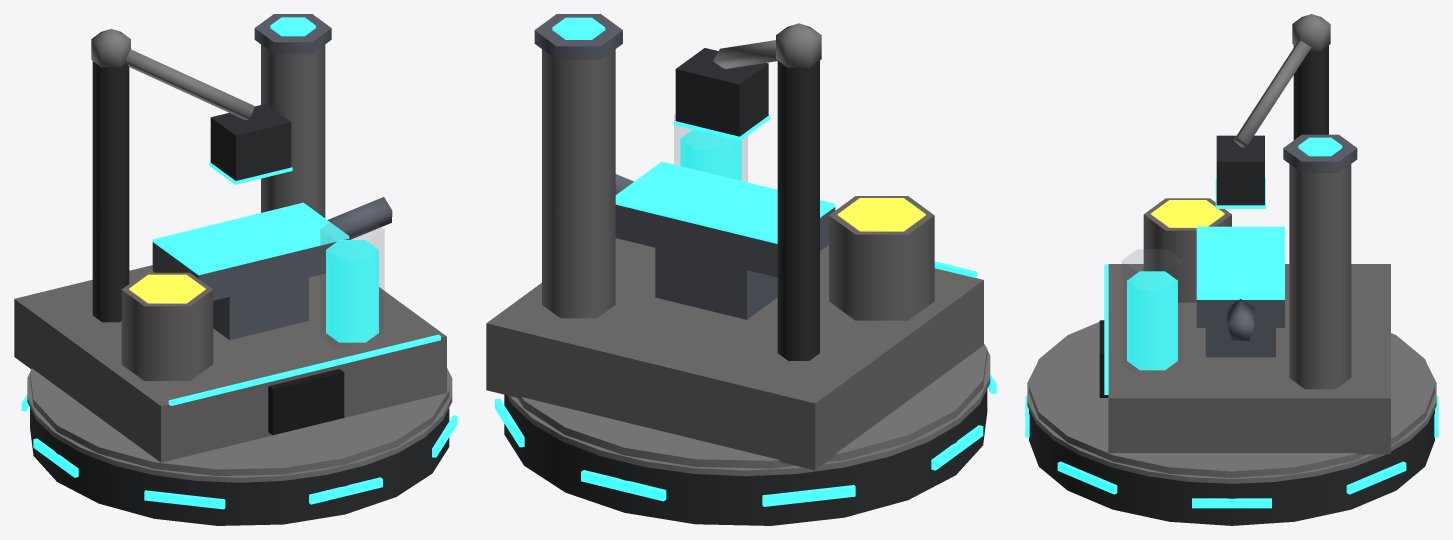
The model's file is Forge_Anvil.glb.
3 renders of one model, left to right at view 1: azimuth 30°, elevation 25°; view 2: azimuth 150°, elevation 25°; view 3: azimuth 270°, elevation 25°, orthographic. The views are drawn at different scales.
Parts seen in each view (by area): view 1: Forge_Anvil; view 2: Forge_Anvil; view 3: Forge_Anvil.
Part boxes in pixels (bbox=[...]): Forge_Anvil: bbox=[14, 14, 457, 525]; Forge_Anvil: bbox=[486, 14, 996, 525]; Forge_Anvil: bbox=[1025, 14, 1438, 525].
Size of the model in its own units: 4.68 by 4.81 by 4.68.
